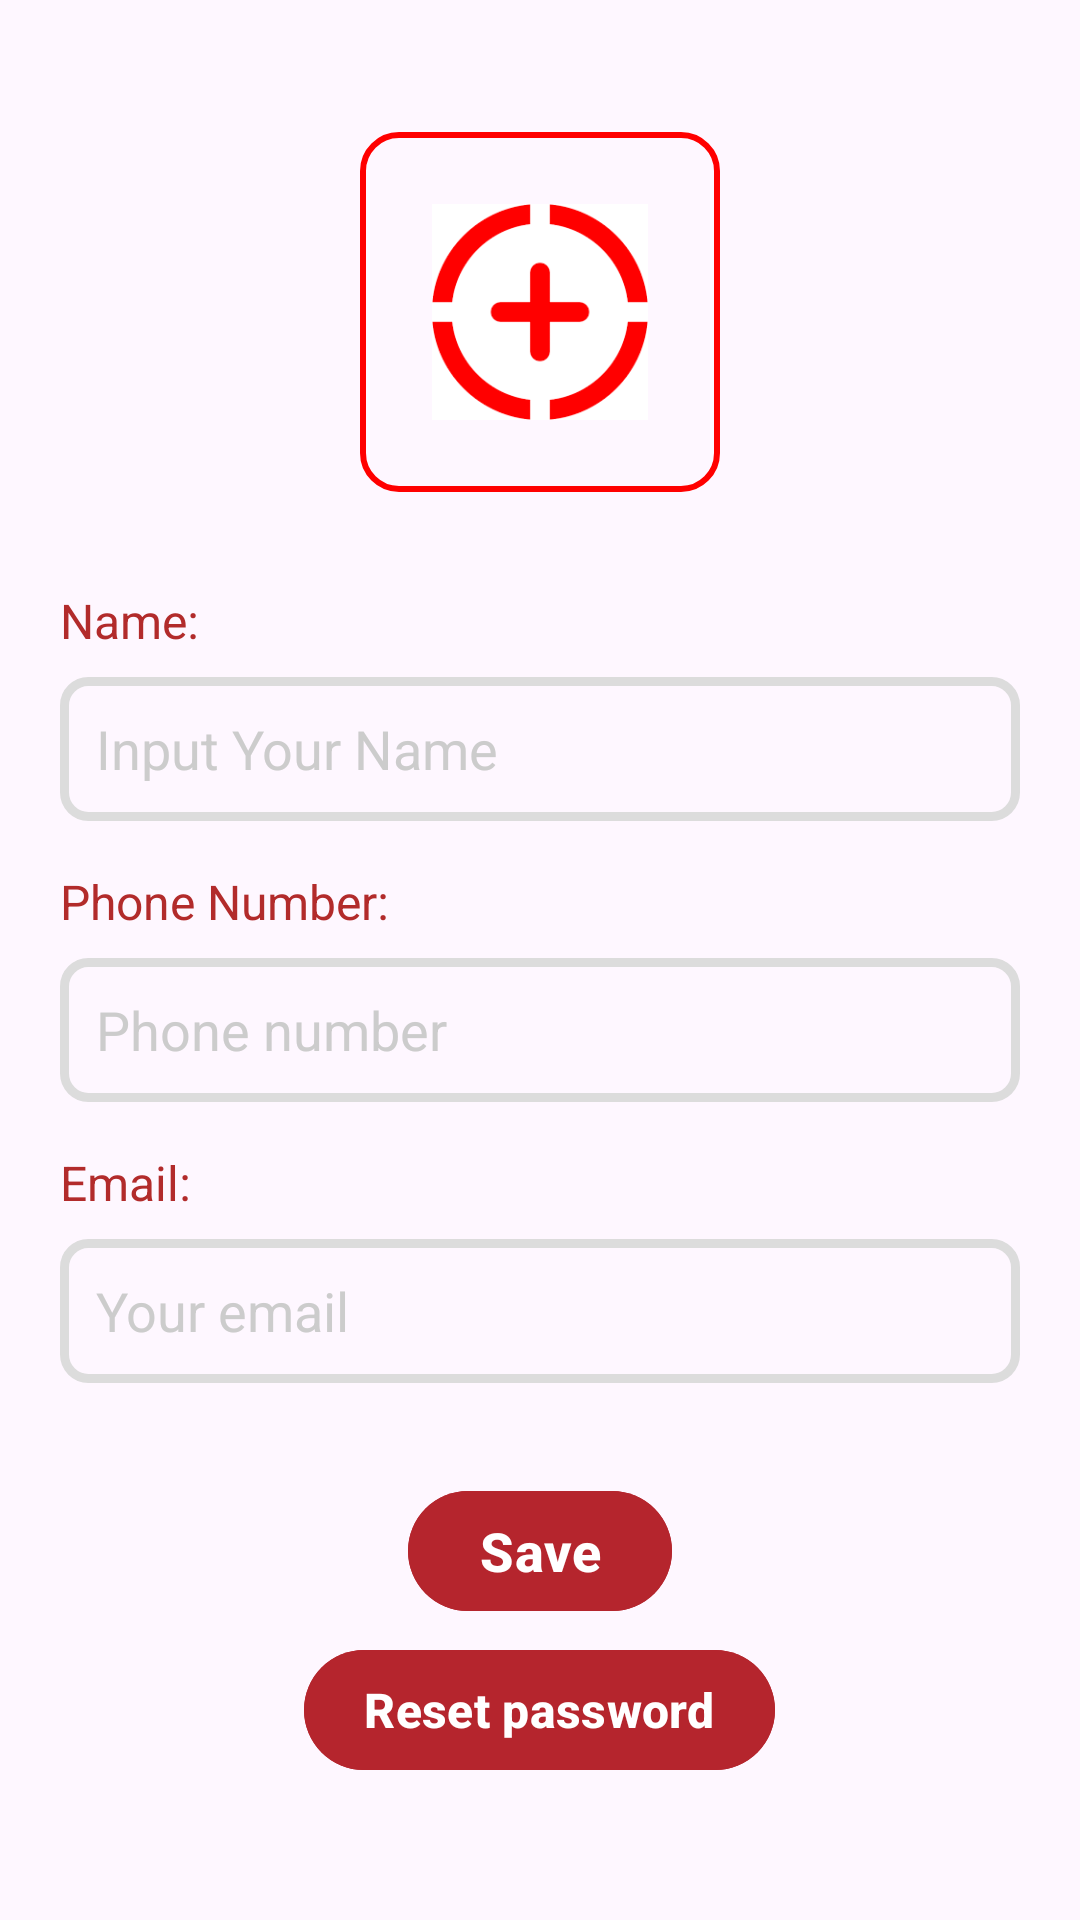

Icon bounding boxes for this 1080 x 1920 phone screenshot, format rect(x1, y1, x2, y2):
adding: rect(360, 132, 720, 492)
